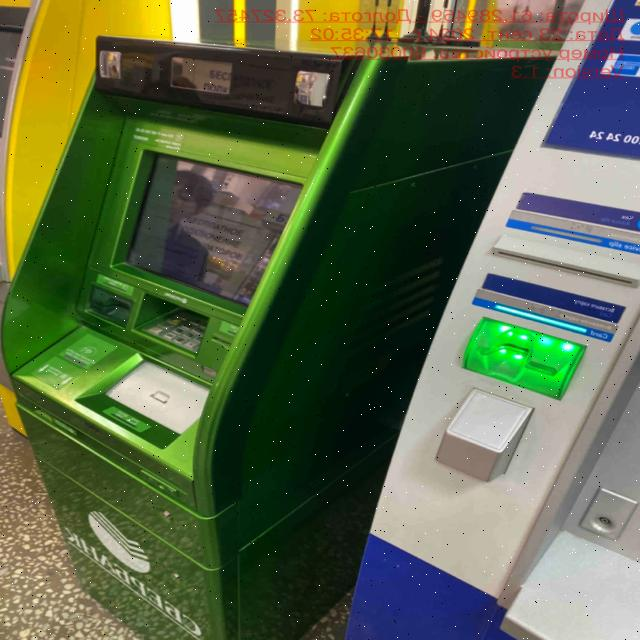bank: (0, 43, 565, 640)
